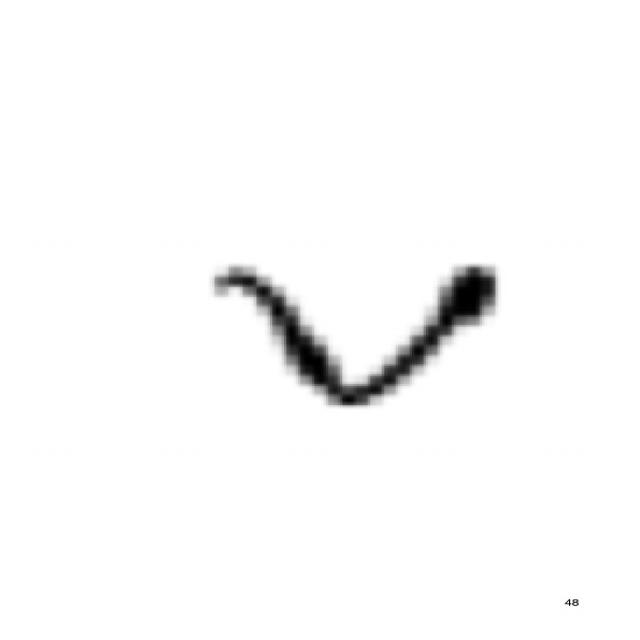7 -seven-: (196, 253, 511, 416)
